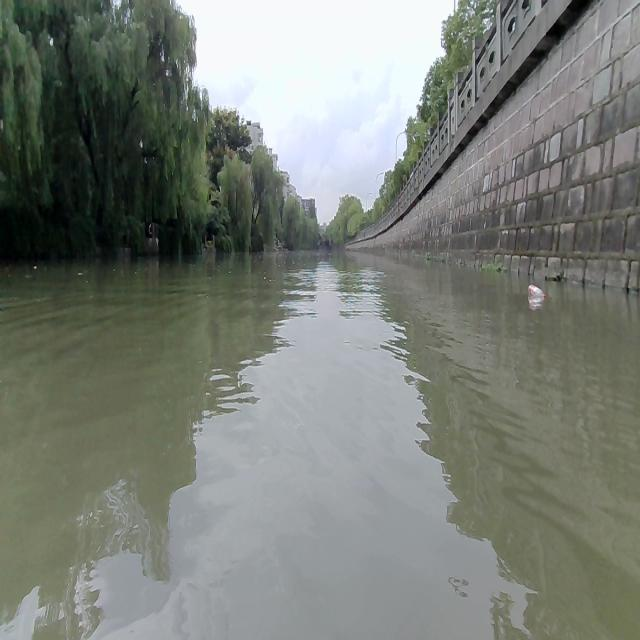bottle: (527, 283, 545, 297)
